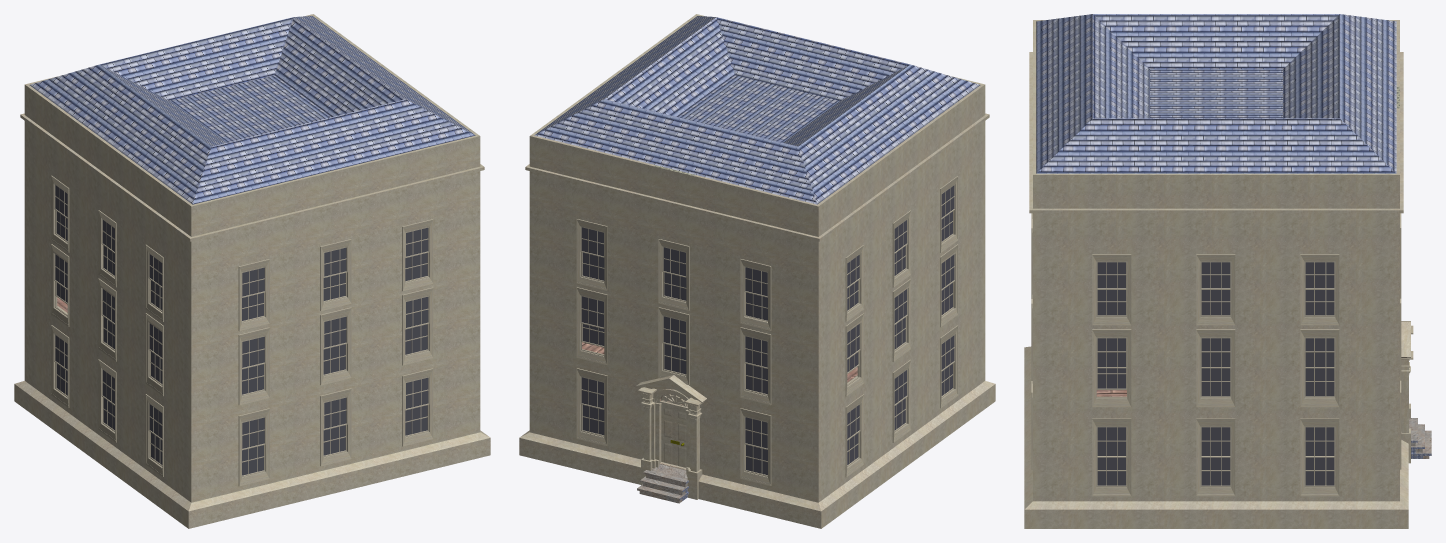
File: houseredo1.fbx
3 renders of one model, left to right at view 1: azimuth 30°, elevation 25°; view 2: azimuth 150°, elevation 25°; view 3: azimuth 270°, elevation 25°, orthographic. The views are drawn at different scales.
Parts seen in each view (by area): view 1: walls_doorway_Cube_005; view 2: walls_doorway_Cube_005; view 3: walls_doorway_Cube_005.
Part boxes in pixels (box(x1,y1,x2,y2)): walls_doorway_Cube_005: box(14, 14, 490, 528); walls_doorway_Cube_005: box(519, 14, 995, 528); walls_doorway_Cube_005: box(1024, 14, 1431, 528).
Size of the model in its own units: 1600 by 1755 by 1696.
Materials: 9 (6 with a texture image).
